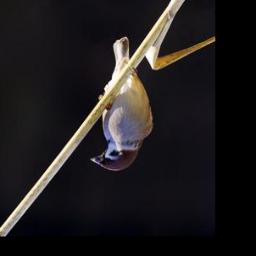Sparrow: (89, 36, 155, 173)
